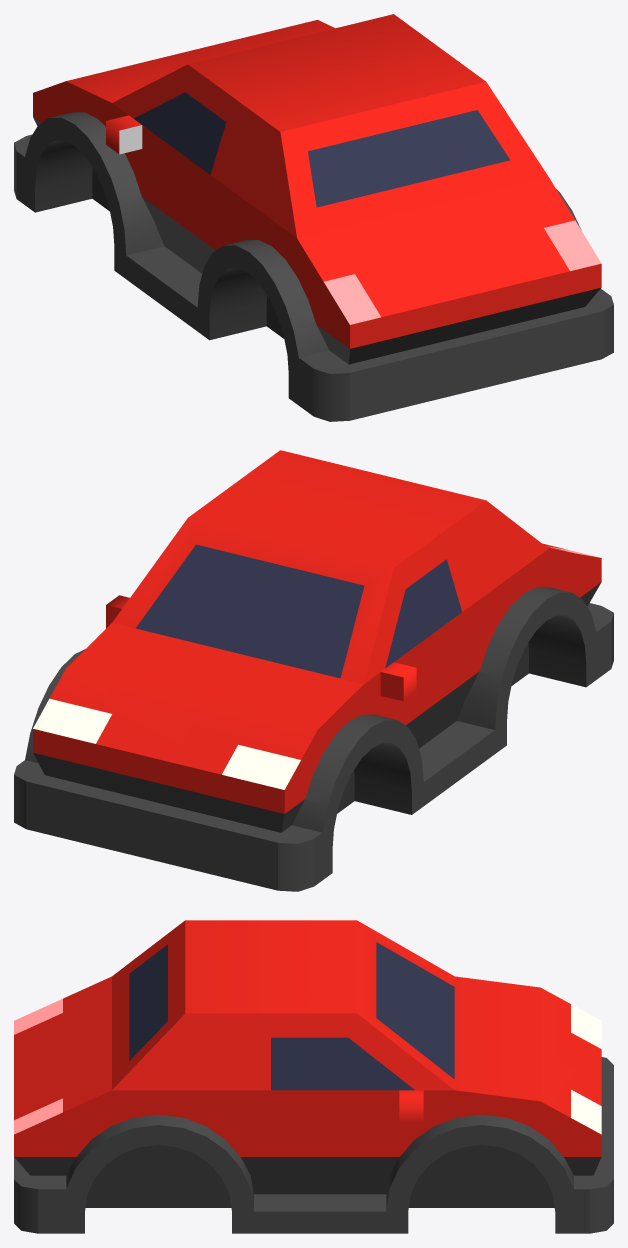
Rendered from SM_Sedan_Sports_Body.fbx.
The picture shows the model from 3 angles, top to bottom: view 1: azimuth 30°, elevation 25°; view 2: azimuth 150°, elevation 25°; view 3: azimuth 270°, elevation 25°; orthographic projection. The views are drawn at different scales.
Parts seen in each view (by area): view 1: SM_Sedan_Sports_Body; view 2: SM_Sedan_Sports_Body; view 3: SM_Sedan_Sports_Body.
Boxes of the visible parts, x1,y1,x2,y2 form: SM_Sedan_Sports_Body: (14, 14, 613, 421); SM_Sedan_Sports_Body: (14, 450, 613, 891); SM_Sedan_Sports_Body: (14, 920, 613, 1233).
Bounding box in the file's own units: 1.3 × 0.9 × 2.45.
